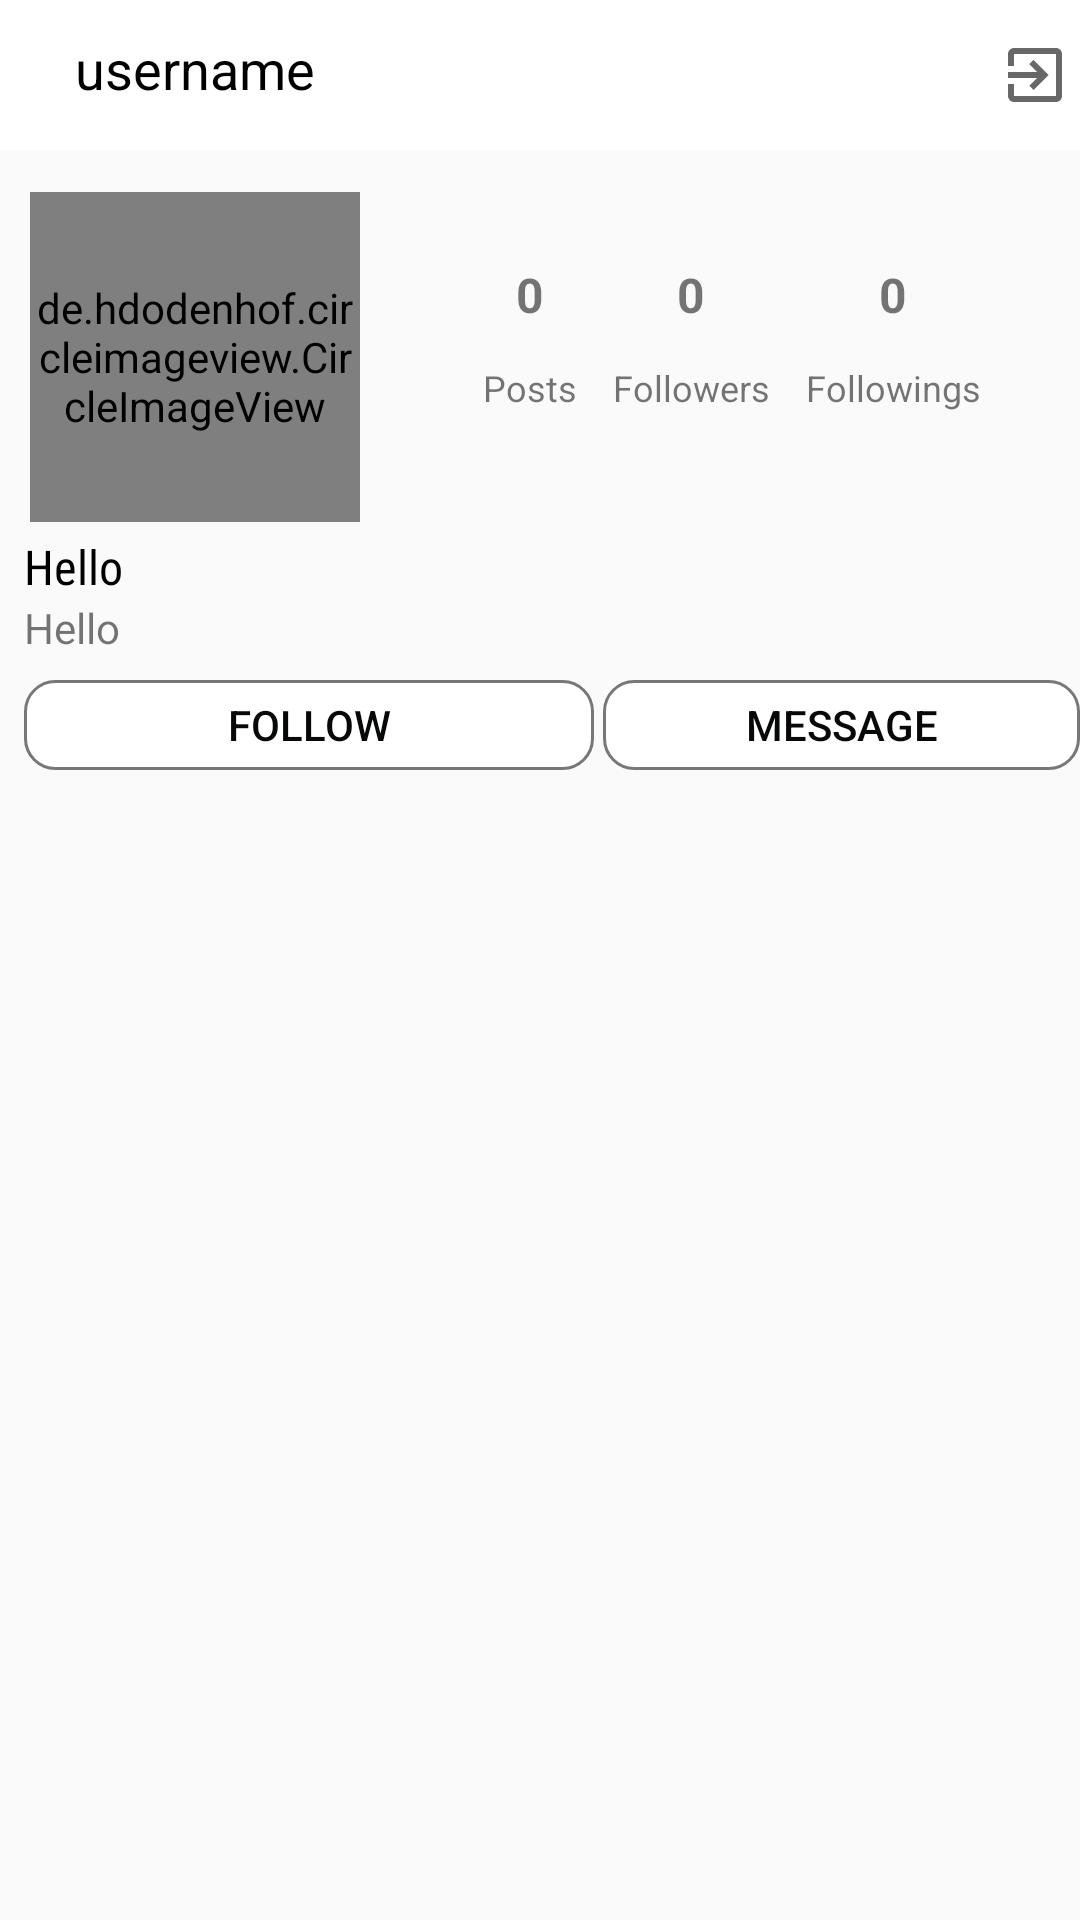

Point at icon controls on the screen. Image size 1080*1920, points as (x,y).
exit to app: (1035,75)
